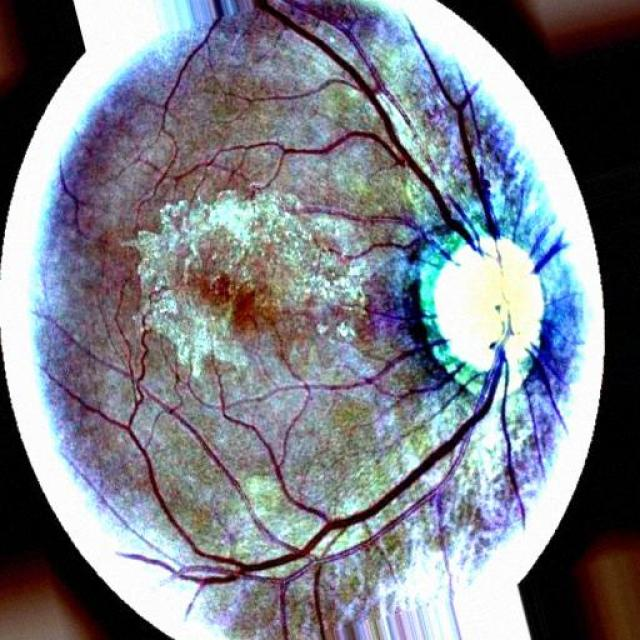Macula: (174, 252, 305, 347)
Nerves: (276, 12, 461, 218), (324, 394, 497, 529), (415, 49, 499, 219)
Optic Disk: (423, 228, 549, 394)
